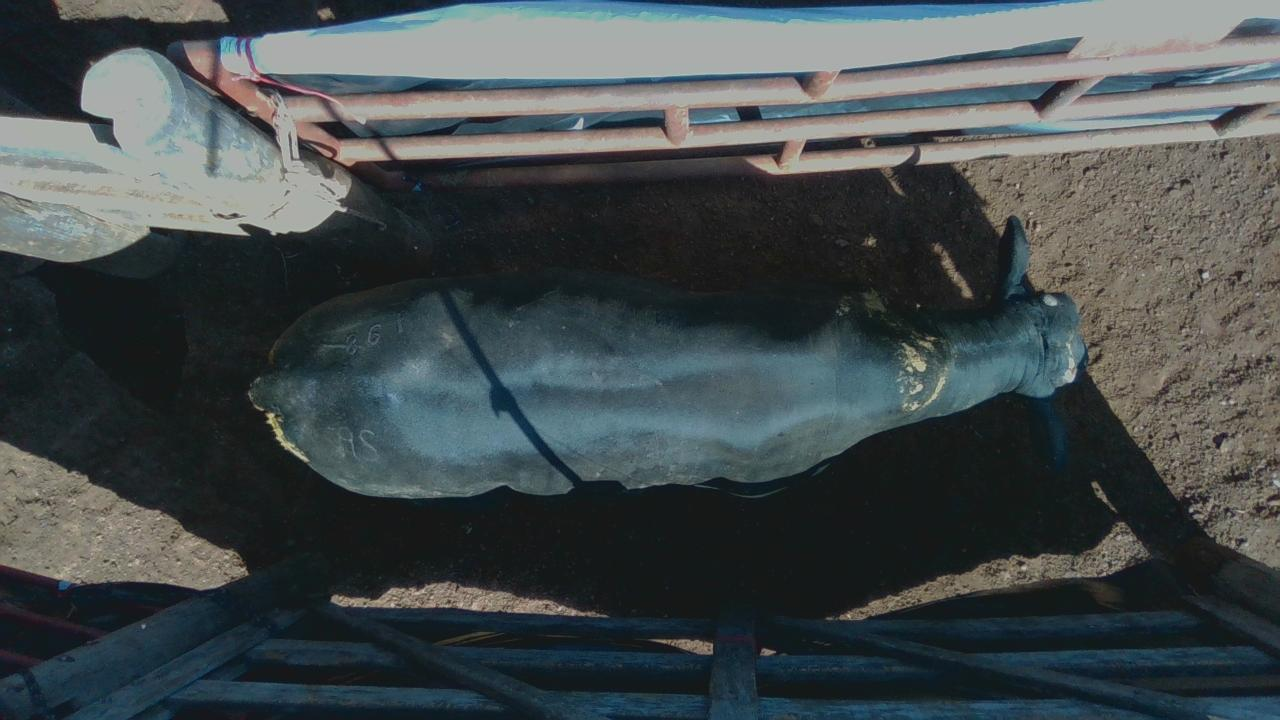cattle: (247, 212, 1088, 501)
